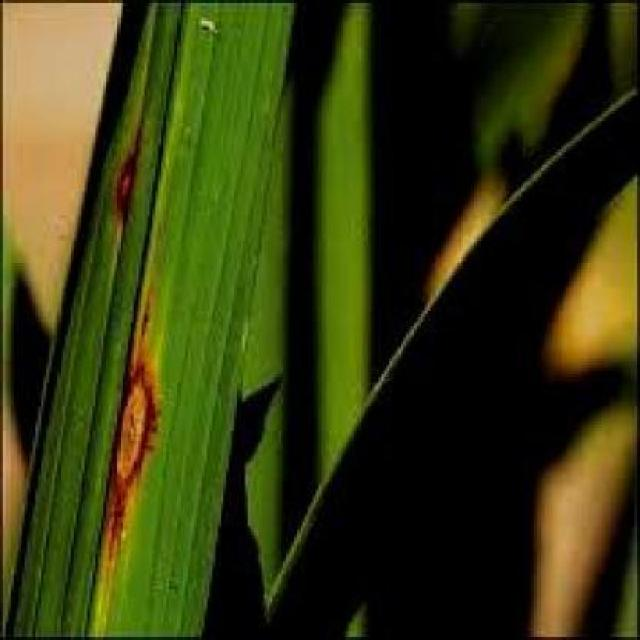Bacterial_Leaf_Blight: (82, 299, 161, 559), (3, 228, 55, 535), (104, 102, 139, 224)
